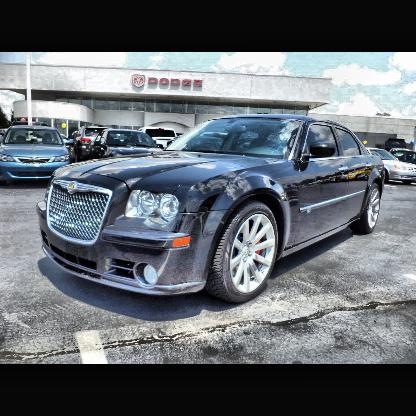Chrysler 300 SRT-8 2010: (22, 99, 397, 324)
